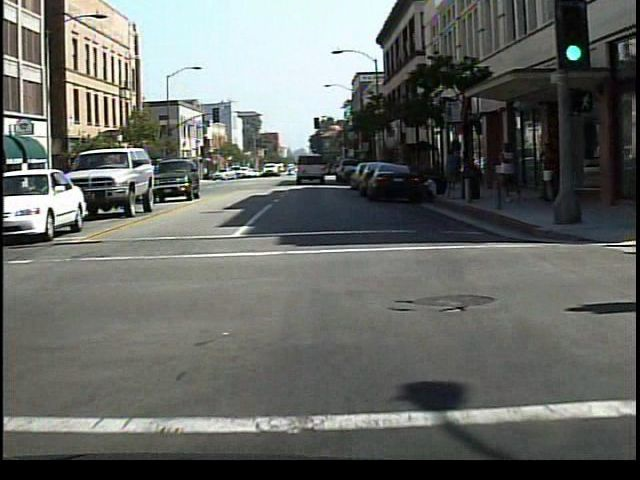person: (495, 137, 530, 212), (441, 143, 464, 199)
